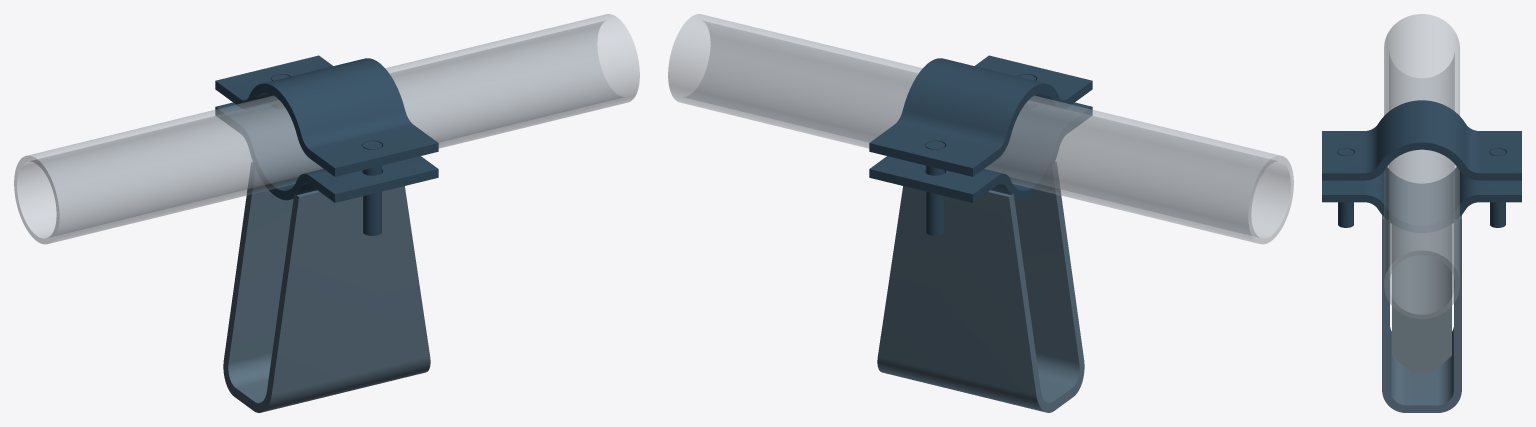
File: TS-625.000-01-opora-dn38.glb
The picture shows the model from 3 angles, left to right: view 1: azimuth 30°, elevation 25°; view 2: azimuth 150°, elevation 25°; view 3: azimuth 270°, elevation 25°; orthographic projection. The views are drawn at different scales.
Parts seen in each view (by area): view 1: truba, skoba_0, poluhomut_verh_3, poluhomut_niz_2, bolt_5; view 2: truba, skoba_0, poluhomut_verh_3, poluhomut_niz_2, bolt_4; view 3: truba, poluhomut_verh_3, rebro_1, poluhomut_niz_2, skoba_0, bolt_4, bolt_5.
Boxes of the visible parts, x1=… form: truba: x1=14, y1=14, x2=639, y2=244; skoba_0: x1=223, y1=162, x2=430, y2=412; poluhomut_verh_3: x1=215, y1=55, x2=438, y2=176; poluhomut_niz_2: x1=215, y1=102, x2=438, y2=202; bolt_5: x1=363, y1=141, x2=381, y2=235; truba: x1=668, y1=14, x2=1293, y2=244; skoba_0: x1=877, y1=162, x2=1084, y2=412; poluhomut_verh_3: x1=869, y1=55, x2=1092, y2=176; poluhomut_niz_2: x1=869, y1=102, x2=1092, y2=202; bolt_4: x1=926, y1=141, x2=944, y2=235; truba: x1=1384, y1=14, x2=1459, y2=319; poluhomut_verh_3: x1=1322, y1=100, x2=1521, y2=180; rebro_1: x1=1392, y1=224, x2=1451, y2=373; poluhomut_niz_2: x1=1322, y1=167, x2=1521, y2=232; skoba_0: x1=1382, y1=215, x2=1461, y2=412; bolt_4: x1=1490, y1=148, x2=1505, y2=227; bolt_5: x1=1338, y1=148, x2=1353, y2=227.
Size of the model in its own units: 280 by 142 by 100.
